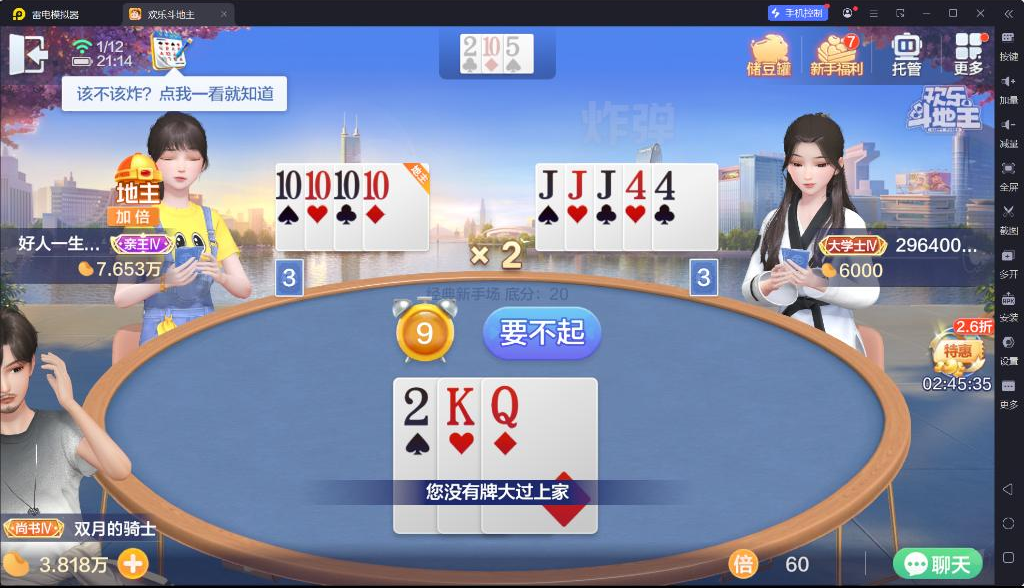J: (535, 166, 560, 201), (596, 167, 620, 201), (566, 167, 589, 201)
K: (444, 383, 478, 428)
Q: (486, 381, 522, 430)
five: (505, 35, 521, 57)
four: (623, 168, 649, 202), (654, 166, 678, 202)
ten: (333, 166, 361, 201), (362, 168, 390, 203), (276, 166, 302, 201), (305, 167, 331, 201), (482, 35, 501, 58)
two: (400, 383, 432, 429), (462, 35, 478, 58)
